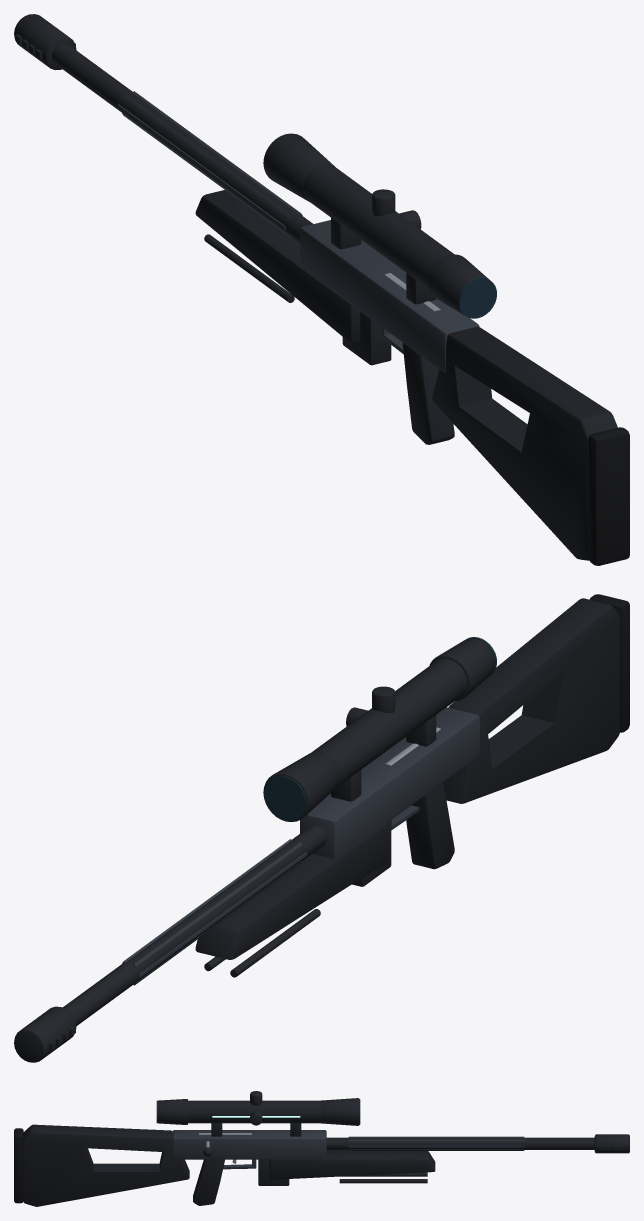
The model's file is arme_sniper.glb.
The picture shows the model from 3 angles, top to bottom: view 1: azimuth 30°, elevation 25°; view 2: azimuth 150°, elevation 25°; view 3: azimuth 270°, elevation 25°; orthographic projection. The views are drawn at different scales.
Visible parts, largest first — view 1: Sniper, Chargeur; view 2: Sniper; view 3: Sniper, Chargeur, Verrou.
Boxes of the visible parts, x1,y1,x2,y2 form: Sniper: (14, 14, 629, 565); Chargeur: (342, 311, 391, 365); Sniper: (14, 594, 629, 1062); Sniper: (14, 1091, 629, 1206); Chargeur: (258, 1159, 289, 1185); Verrou: (199, 1133, 251, 1156).
Bounding box in the file's own units: 0.1088 × 0.2764 × 1.4.
